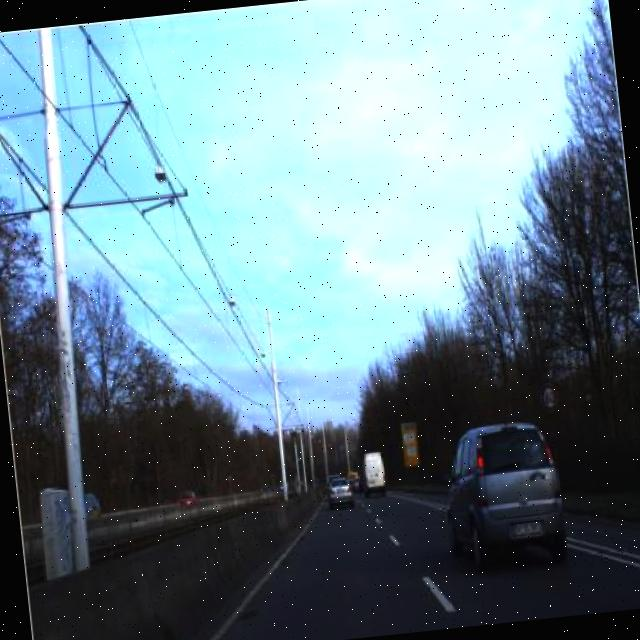Ograniczenie predkosci do 60: (536, 376, 562, 417)
